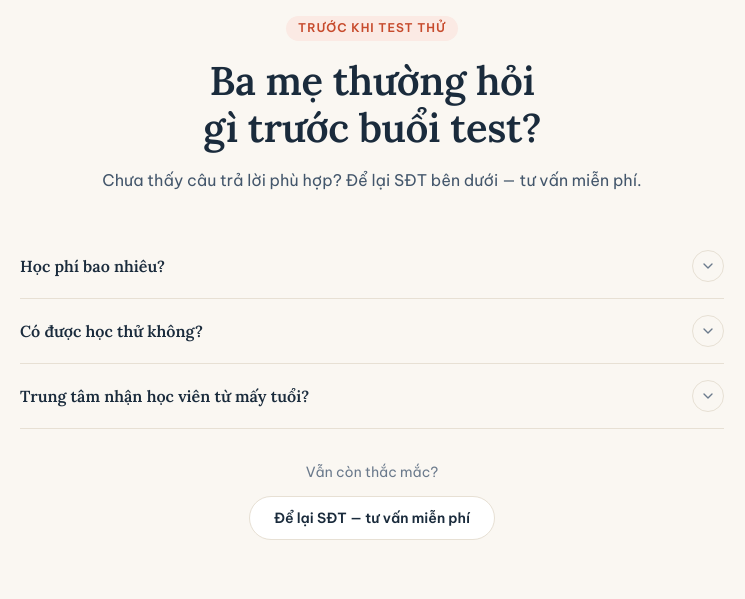
FAQ accordion › expands an answer when its question is clicked
The width and height of the screenshot is (745, 599).
Click the button "Trung tâm nhận học viên từ mấy tuổi?".
click(165, 396)  # box [20, 364, 724, 428]
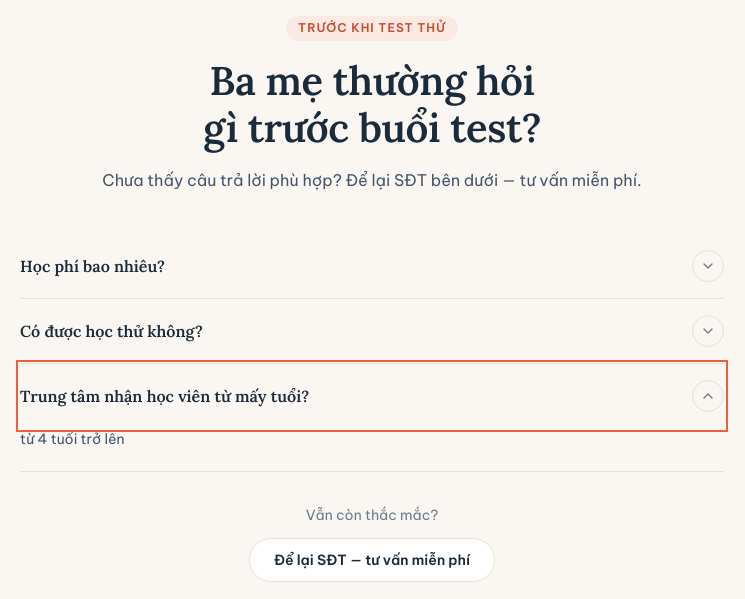
Expected: the text "từ 4 tuổi trở lên" is shown, [20, 430, 125, 448]
